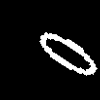chain: (40, 32, 96, 75)
